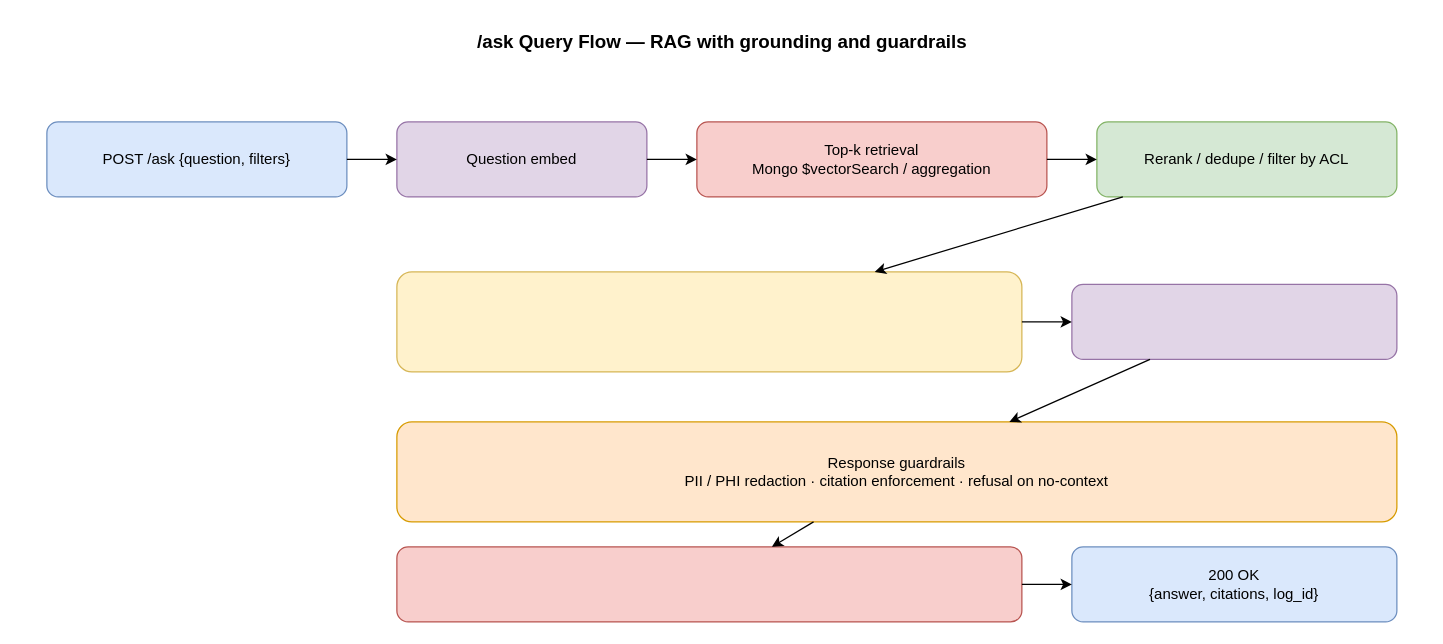
Some shapes in this 1443 by 644 pixel diagram are drawn without their labels. The centre of each missing label's shape, as x and y in pixels:
"Build grounded prompt system rules + cited chunks + question" goes at [709,321].
"LLM call (LangChain)" goes at [1234,321].
"Persist AnswerLog question · cited chunk_ids · model · ts · user" goes at [709,584].
